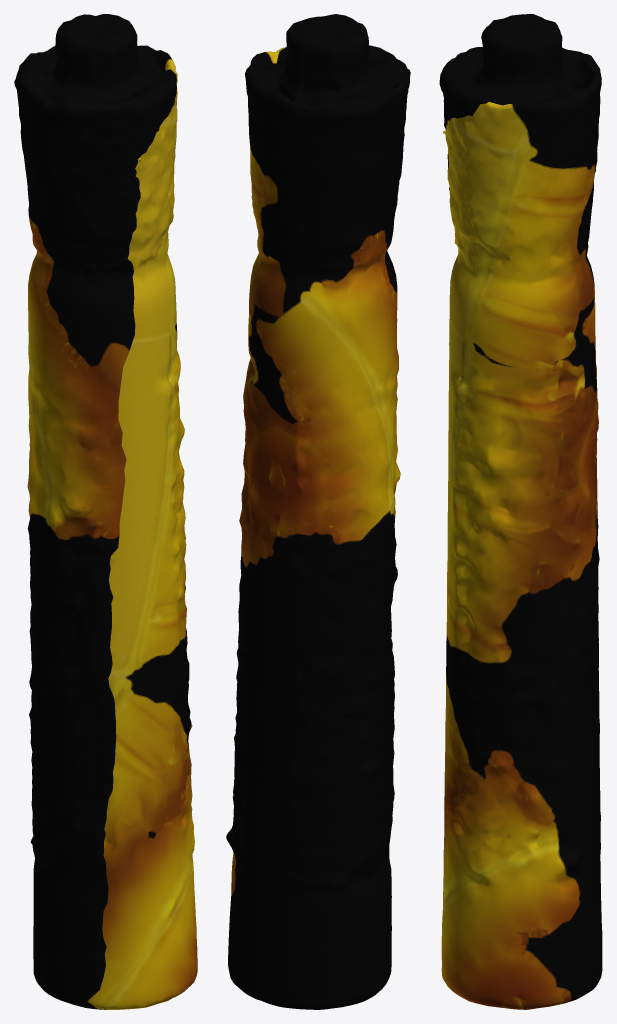
3 renders of one model, left to right at view 1: azimuth 30°, elevation 25°; view 2: azimuth 150°, elevation 25°; view 3: azimuth 270°, elevation 25°, orthographic.
Size of the model in its own units: 0.021 by 0.121 by 0.0189.
